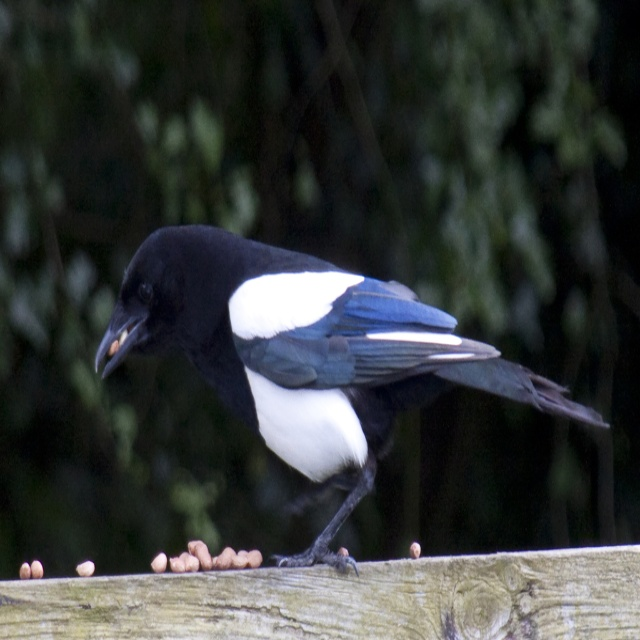Magpie: (93, 224, 607, 572)
